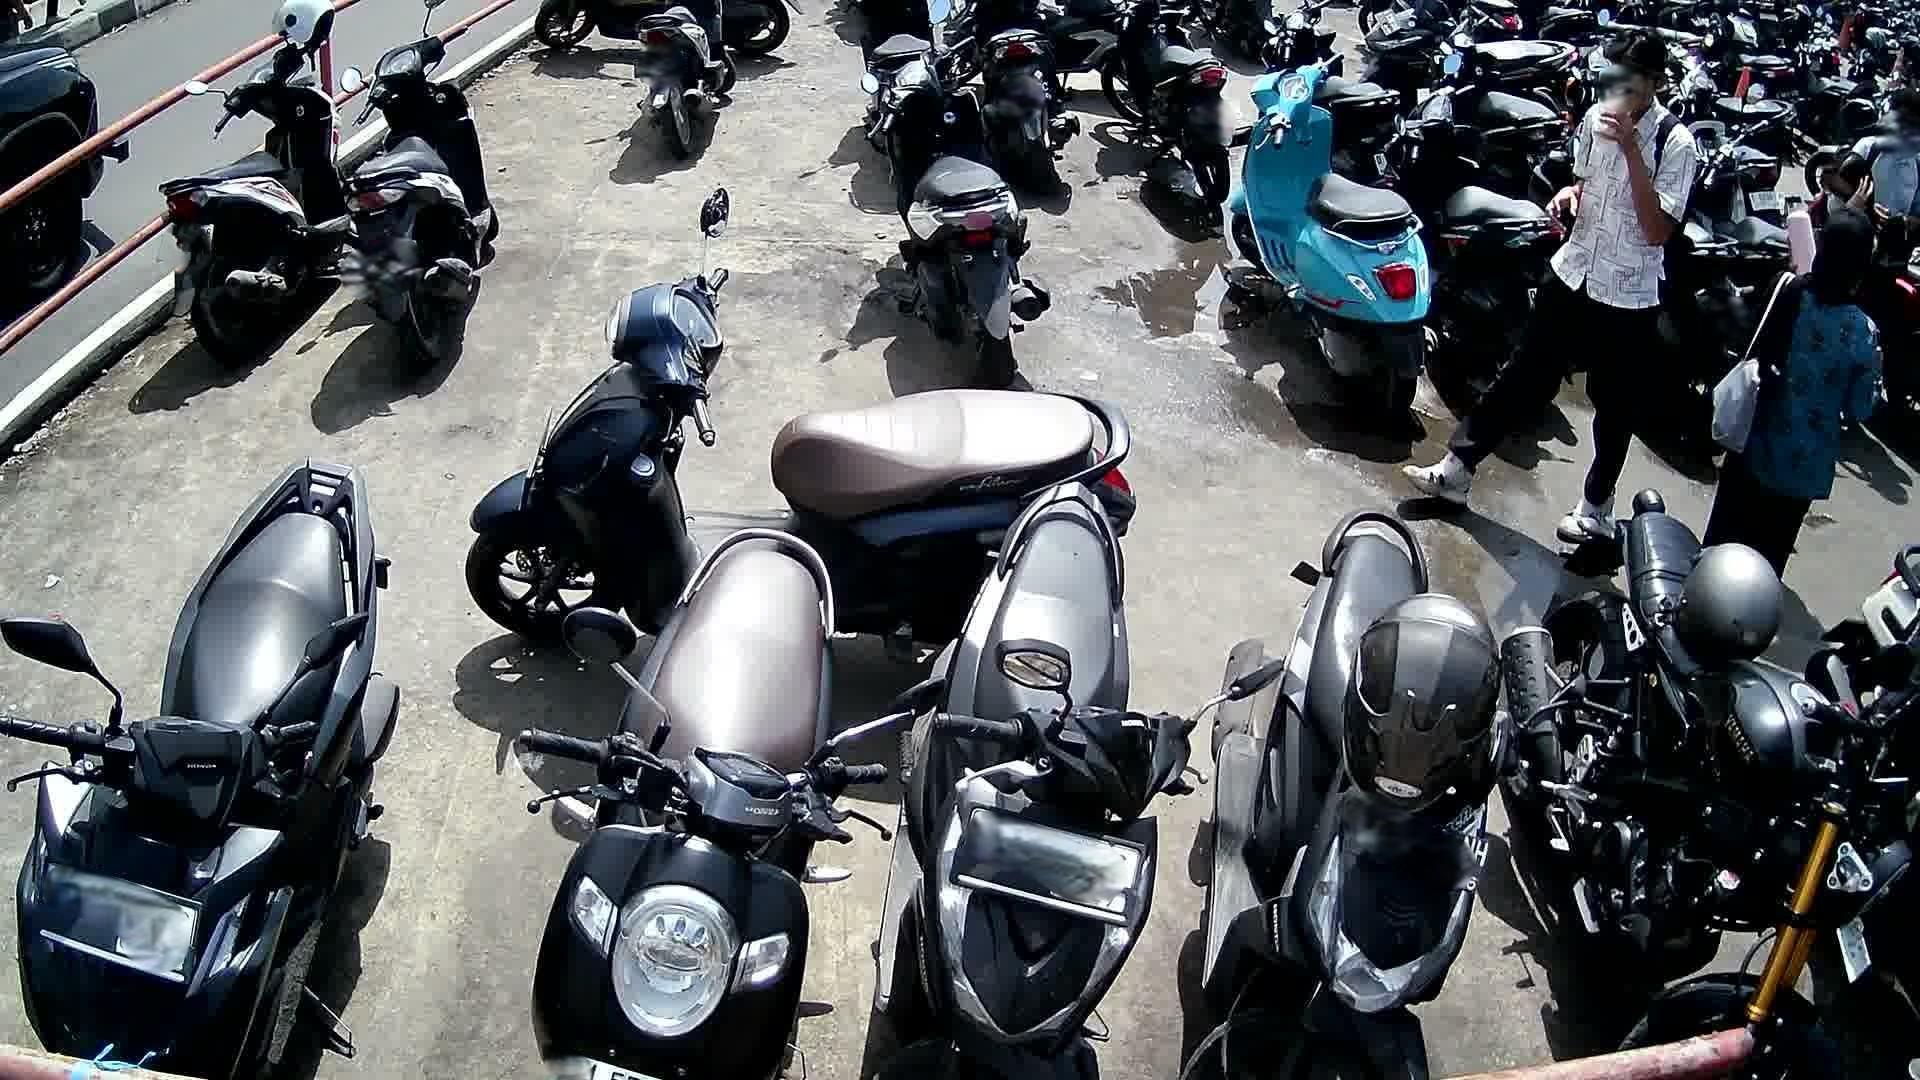motorcycle: (465, 187, 1134, 645), (0, 456, 406, 1080), (1506, 489, 1920, 1080), (520, 529, 898, 1080), (876, 484, 1212, 1080), (1199, 505, 1528, 1080), (1234, 47, 1449, 415), (858, 0, 1054, 376), (157, 45, 348, 367), (1386, 76, 1565, 413), (342, 0, 500, 364)
